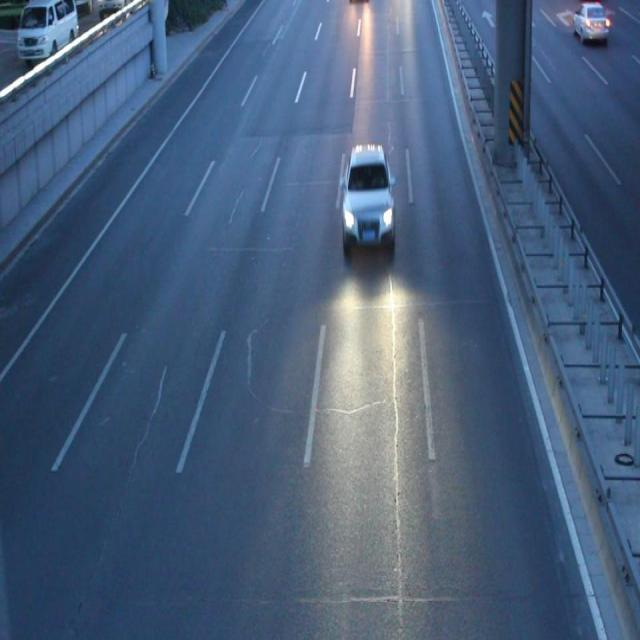car: (339, 144, 394, 252)
